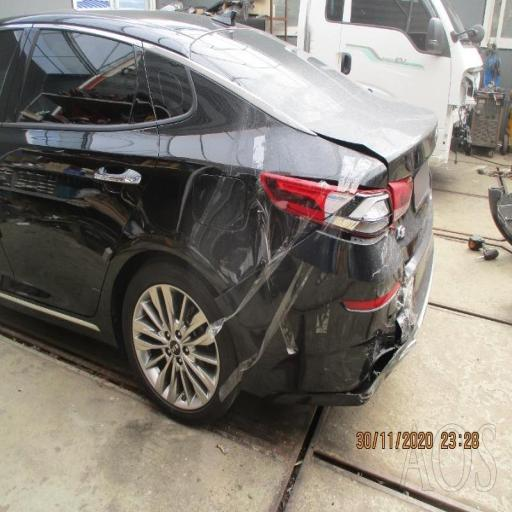broken: (324, 148, 457, 374)
dent: (62, 148, 148, 260)
scratch: (194, 106, 313, 359)
